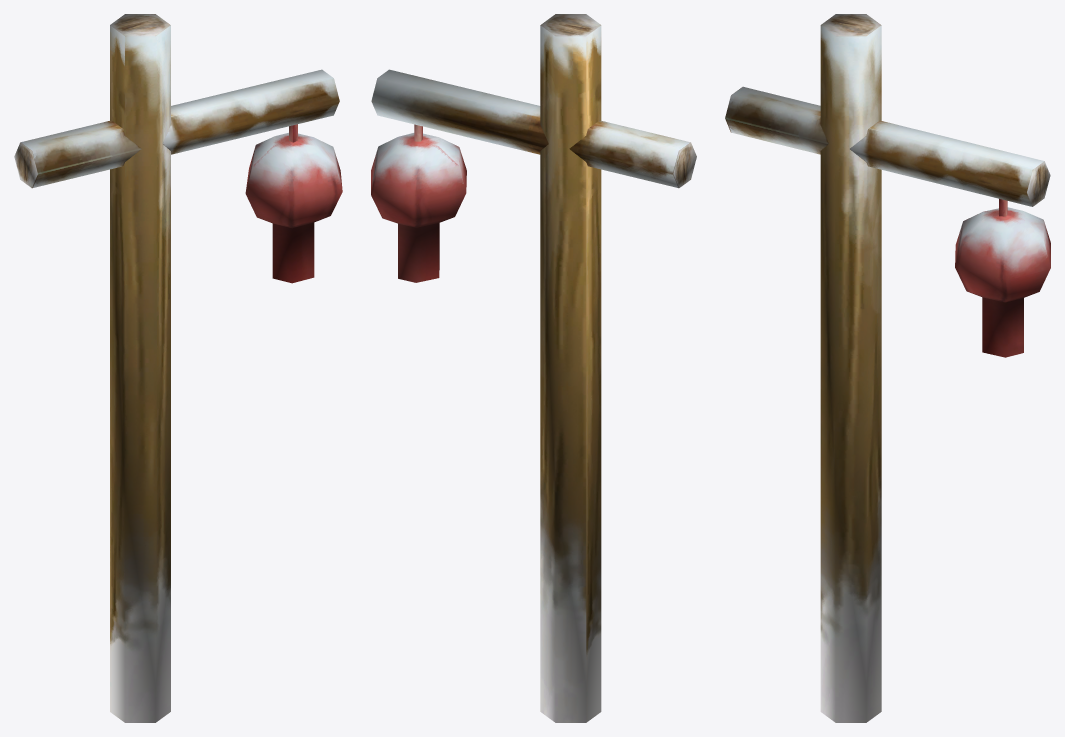
Rendered from SM_House_Light_01.fbx.
3 renders of one model, left to right at view 1: azimuth 30°, elevation 25°; view 2: azimuth 150°, elevation 25°; view 3: azimuth 330°, elevation 25°, orthographic.
Parts seen in each view (by area): view 1: SM_House_Light_01; view 2: SM_House_Light_01; view 3: SM_House_Light_01.
Boxes of the visible parts, <box> form: SM_House_Light_01: <box>14,14,342,722</box>; SM_House_Light_01: <box>371,14,696,722</box>; SM_House_Light_01: <box>725,14,1050,722</box>.
Size of the model in its own units: 2.01 by 4.2 by 0.5448.
